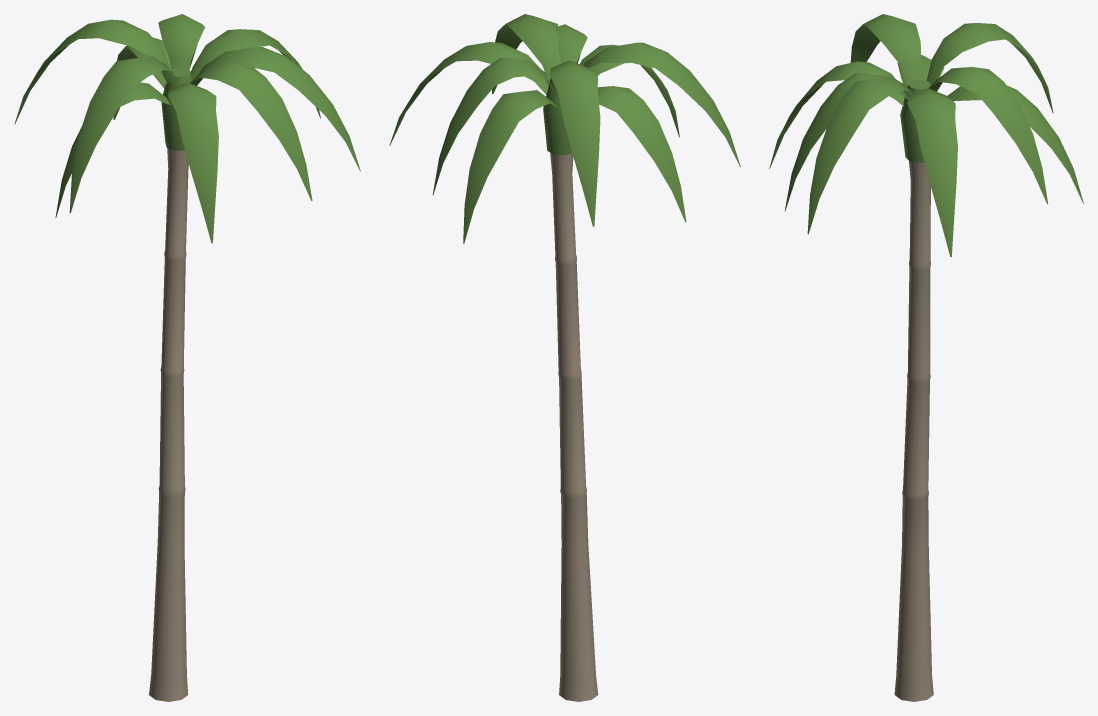
The model's file is tree_palm.glb.
The picture shows the model from 3 angles, left to right: view 1: azimuth 30°, elevation 25°; view 2: azimuth 150°, elevation 25°; view 3: azimuth 270°, elevation 25°; orthographic projection.
Parts seen in each view (by area): view 1: tree_palm; view 2: tree_palm; view 3: tree_palm.
Boxes of the visible parts, <box> form: tree_palm: <box>14,14,360,701</box>; tree_palm: <box>389,14,740,701</box>; tree_palm: <box>769,14,1083,701</box>.
Size of the model in its own units: 5.75 by 12 by 5.2.
